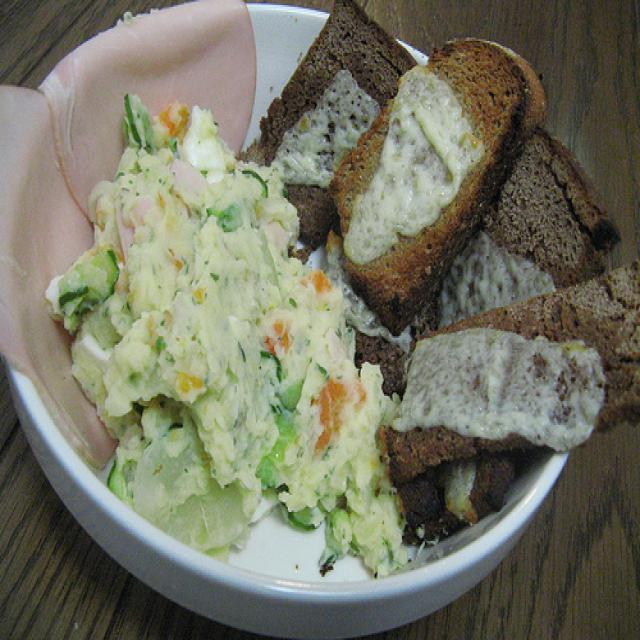蔬菜料理: (38, 95, 416, 598)
